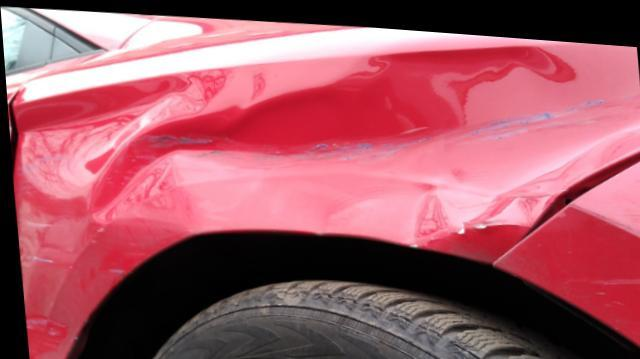dent: (82, 35, 628, 233)
